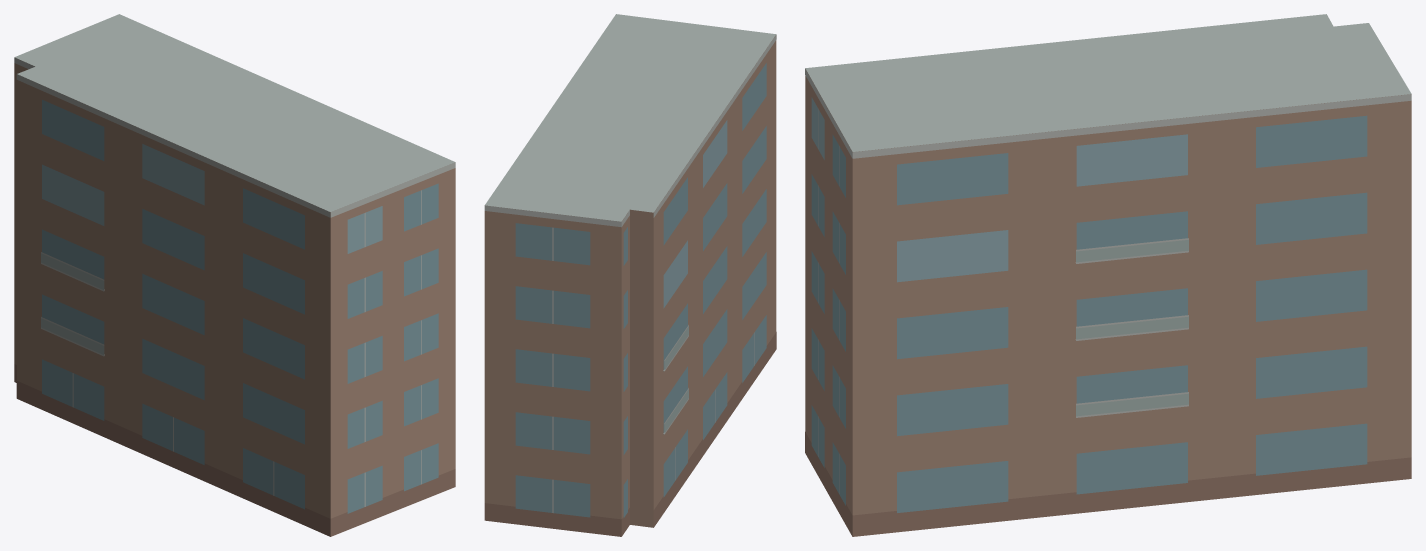
File: survey-upis-32925822.glb
The picture shows the model from 3 angles, left to right: view 1: azimuth 30°, elevation 25°; view 2: azimuth 150°, elevation 25°; view 3: azimuth 270°, elevation 25°; orthographic projection. The views are drawn at different scales.
Parts seen in each view (by area): view 1: survey-upis-32925822.tmp; view 2: survey-upis-32925822.tmp; view 3: survey-upis-32925822.tmp.
Part boxes in pixels (x1,y1,x2,y2): survey-upis-32925822.tmp: (14,14,455,536); survey-upis-32925822.tmp: (484,14,776,536); survey-upis-32925822.tmp: (805,14,1411,536).
Size of the model in its own units: 10.78 by 14 by 20.01.
